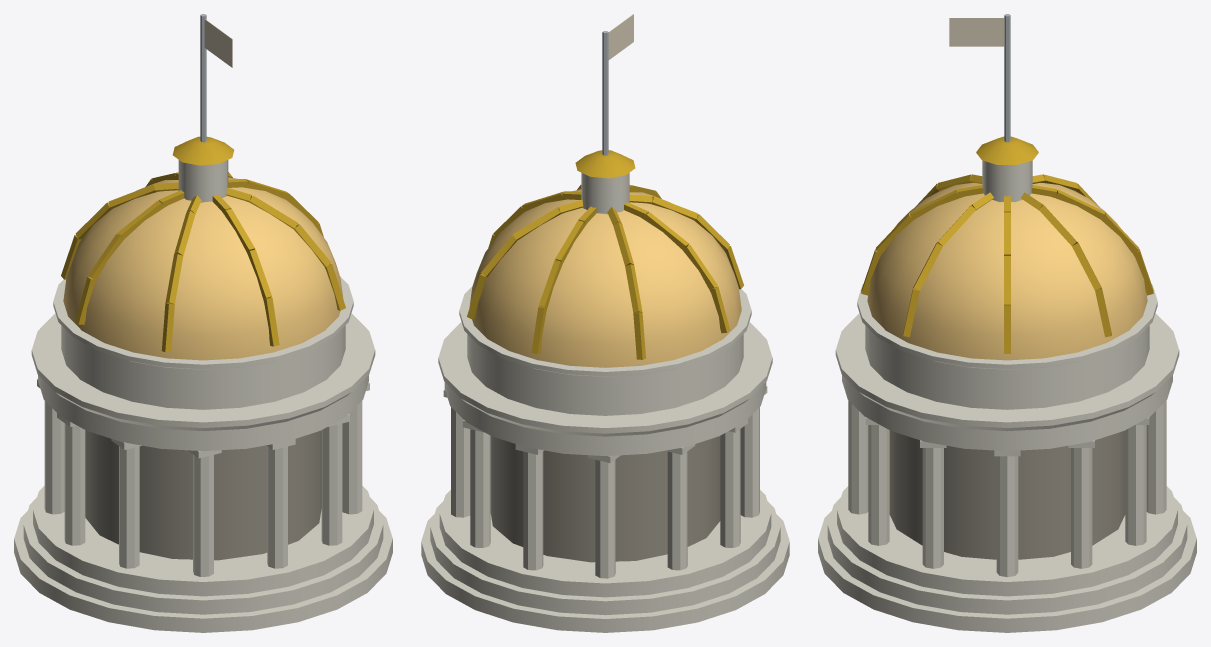
Rendered from city_hall_dome.glb.
3 renders of one model, left to right at view 1: azimuth 30°, elevation 25°; view 2: azimuth 150°, elevation 25°; view 3: azimuth 270°, elevation 25°, orthographic. The views are drawn at different scales.
Visible parts, largest first — view 1: Body, LampDome, Trim; view 2: Body, LampDome, Trim; view 3: Body, LampDome, Trim.
Boxes of the visible parts, x1=… form: Body: x1=14, y1=276, x2=392, y2=632; LampDome: x1=63, y1=177, x2=343, y2=360; Trim: x1=61, y1=14, x2=345, y2=352; Body: x1=421, y1=286, x2=789, y2=632; LampDome: x1=469, y1=189, x2=741, y2=367; Trim: x1=467, y1=14, x2=743, y2=359; Body: x1=818, y1=284, x2=1196, y2=632; LampDome: x1=867, y1=183, x2=1147, y2=360; Trim: x1=861, y1=14, x2=1153, y2=353.
Bounding box in the file's own units: 0.6 × 0.94 × 0.6.
